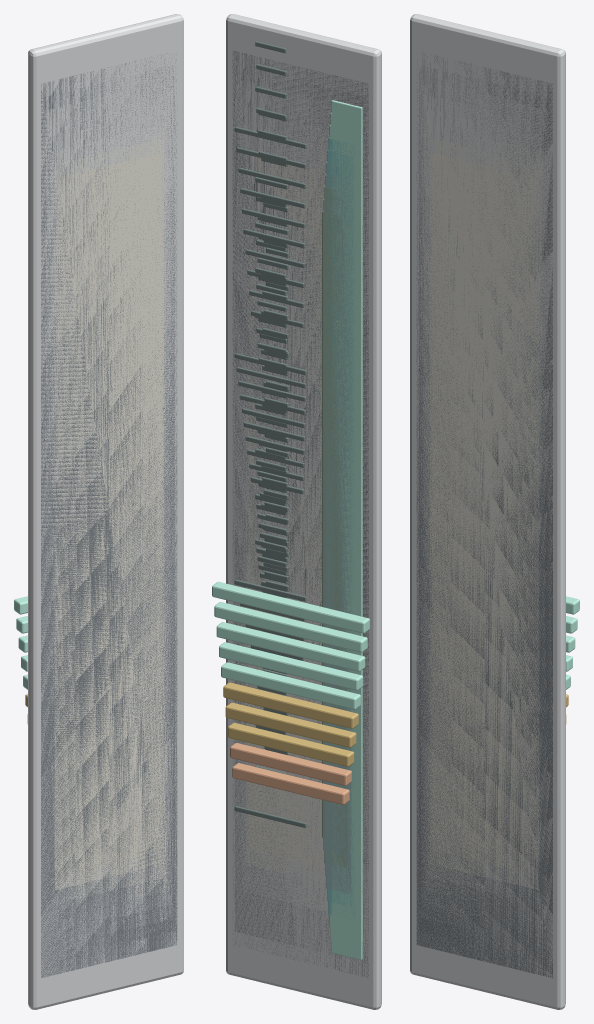
Rendered from Gear07.fbx.
The picture shows the model from 3 angles, left to right: view 1: azimuth 30°, elevation 25°; view 2: azimuth 150°, elevation 25°; view 3: azimuth 330°, elevation 25°; orthographic projection.
Parts seen in each view (by area): view 1: Gear07_V10_Platinum, Gear07_V8_Graphite, Gear07_V1_Ivory, Gear07_V2_Ivory, Gear07_V7_Graphite, Gear07_V9_Platinum, Gear07_V3_Linen, Gear07_V6_Platinum, Gear07_V5_Platinum, Gear07_V4_Linen; view 2: Gear07_V10_Platinum, Gear07_V8_Graphite, Gear07_V10_Glow, Gear07_V7_Graphite, Gear07_V1_Ivory, Gear07_V8_Glow, Gear07_V3_Sage, Gear07_V2_Ivory, Gear07_V4_Linen, Gear07_V6_Aqua, Gear07_V2_Blue, Gear07_V9_Glow (+23 smaller); view 3: Gear07_V10_Platinum, Gear07_V2_Ivory, Gear07_V8_Graphite, Gear07_V1_Ivory, Gear07_V7_Graphite, Gear07_V9_Platinum, Gear07_V5_Platinum, Gear07_V3_Linen, Gear07_V6_Platinum, Gear07_V4_Linen.
Boxes of the visible parts, x1,y1,x2,y2 form: Gear07_V10_Platinum: (28, 14, 183, 1009); Gear07_V8_Graphite: (41, 53, 177, 977); Gear07_V1_Ivory: (57, 153, 161, 873); Gear07_V2_Ivory: (54, 138, 163, 889); Gear07_V7_Graphite: (43, 65, 174, 960); Gear07_V9_Platinum: (39, 36, 179, 990); Gear07_V3_Linen: (52, 124, 165, 902); Gear07_V6_Platinum: (45, 84, 172, 943); Gear07_V5_Platinum: (48, 95, 170, 925); Gear07_V4_Linen: (50, 110, 168, 901); Gear07_V10_Platinum: (226, 14, 381, 1009); Gear07_V8_Graphite: (232, 51, 368, 977); Gear07_V10_Glow: (212, 100, 369, 959); Gear07_V7_Graphite: (235, 66, 366, 963); Gear07_V1_Ivory: (248, 156, 326, 868); Gear07_V8_Glow: (216, 125, 365, 933); Gear07_V3_Sage: (324, 186, 347, 868); Gear07_V2_Ivory: (246, 139, 325, 882); Gear07_V4_Linen: (241, 114, 329, 911); Gear07_V6_Aqua: (327, 149, 353, 906); Gear07_V2_Blue: (323, 198, 345, 855); Gear07_V9_Glow: (214, 112, 367, 942); Gear07_V10_Platinum: (410, 14, 565, 1009); Gear07_V2_Ivory: (430, 138, 539, 889); Gear07_V8_Graphite: (416, 52, 552, 978); Gear07_V1_Ivory: (432, 153, 536, 873); Gear07_V7_Graphite: (419, 66, 550, 958); Gear07_V9_Platinum: (414, 36, 554, 989); Gear07_V5_Platinum: (423, 95, 545, 918); Gear07_V3_Linen: (428, 126, 541, 897); Gear07_V6_Platinum: (421, 82, 548, 925); Gear07_V4_Linen: (425, 110, 543, 898).
Size of the model in its own units: 40.8 by 245 by 9.
